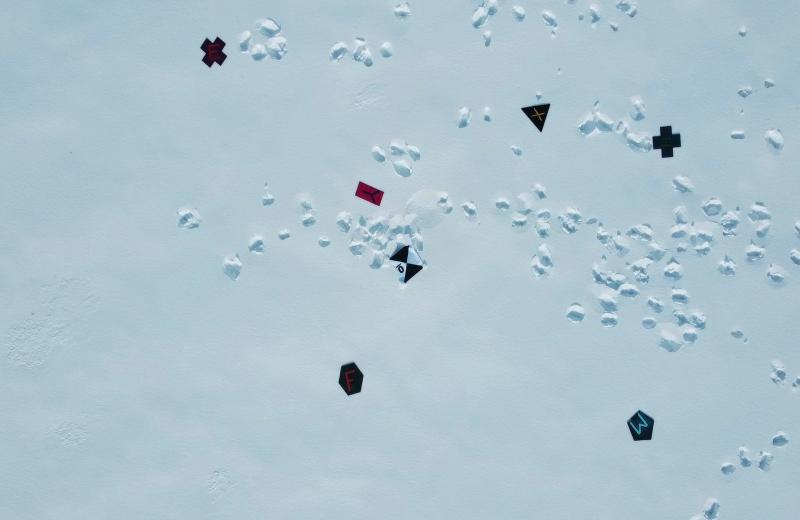Cross: (647, 124, 683, 162), (196, 36, 230, 72)
Hexagon: (335, 362, 368, 400)
Pentagon: (621, 406, 657, 445)
Rectangle: (353, 175, 386, 211)
Triangle: (518, 103, 555, 135)
